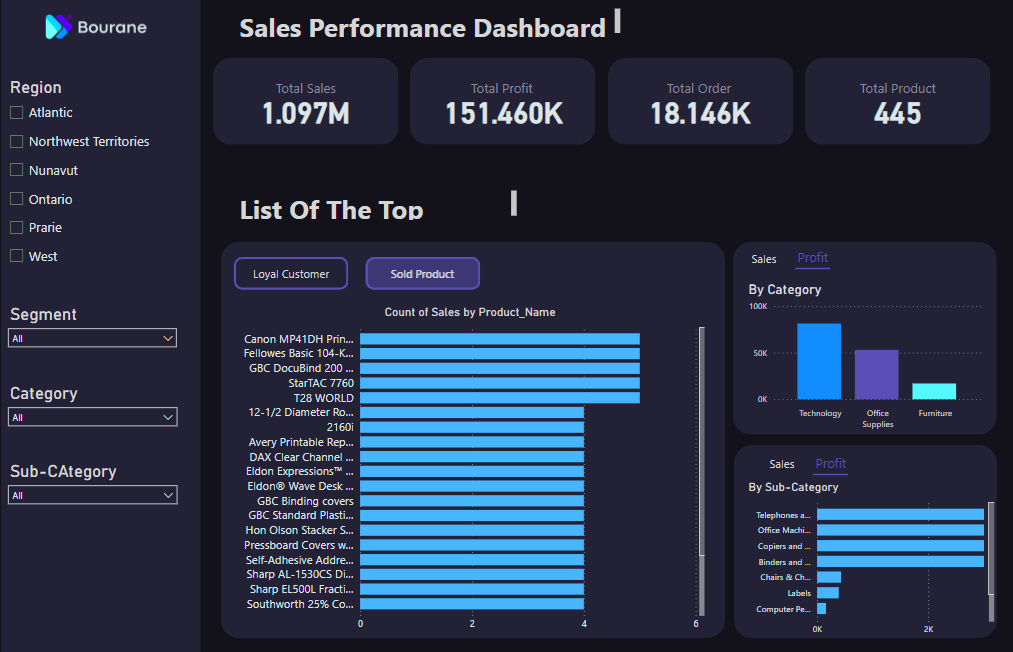

What the dashboard file says about the page in this screenshot:
{"tool":"powerbi","page":{"name":"Page 1","canvas":[1440,1694],"ordinal":0},"visuals":[{"type":"actionButton","box":[10,10,74,31.7],"z":0,"group":"g6"},{"type":"group","id":"g1","title":"overview","box":[303.2,127,1111.1,123.8],"z":0},{"type":"shape","box":[1149.2,127,265.1,123.8],"z":0,"group":"g1"},{"type":"group","id":"g2","title":"Sales_Btn","box":[1053.3,392.2,74,38.1],"z":0,"group":"g15"},{"type":"actionButton","box":[1053.3,392.2,74,31.7],"z":0,"group":"g2"},{"type":"actionButton","box":[1122.9,396.4,74,31.7],"z":0,"group":"g7"},{"type":"actionButton","title":"loyalty_btn","box":[521.3,411,163.3,46.7],"z":0,"group":"g11"},{"type":"actionButton","title":"loyalty_btn","box":[333.3,411.7,163.3,46.7],"z":0,"group":"g12"},{"type":"donutChart","title":"By Category","fields":{"Category":["Salesstore.Product_Category"],"Y":["Measures_Br.Total_Sales"]},"box":[1062.5,446.2,343.8,218.8],"z":0,"group":"g16"},{"type":"tableEx","title":"Top_10_Customer","fields":{"Values":["loyalty_list.Order_ID","loyalty_list.Customer_Name","loyalty_list.Customer_Segment","loyalty_list.Frequency"]},"box":[333.9,458,682.1,498],"z":0,"group":"g13"},{"type":"actionButton","box":[1149.2,687.4,74,31.7],"z":0,"group":"g8"},{"type":"group","id":"g3","title":"Sales_Btn","box":[1079.1,690.4,74,31.7],"z":0,"group":"g20"},{"type":"actionButton","box":[1079.1,690.4,74,31.7],"z":0,"group":"g3"},{"type":"actionButton","box":[1133.4,1096.9,74,31.7],"z":0,"group":"g9"},{"type":"group","id":"g4","title":"Sales_Btn","box":[1062.4,1099.9,74,31.7],"z":0,"group":"g17"},{"type":"actionButton","box":[1062.4,1099.9,74,31.7],"z":0,"group":"g4"},{"type":"actionButton","box":[1152.2,1385.4,74,31.7],"z":0,"group":"g10"},{"type":"group","id":"g5","title":"Sales_Btn","box":[1081.7,1388.1,74,31.7],"z":0,"group":"g23"},{"type":"actionButton","box":[1081.7,1388.1,74,31.7],"z":0,"group":"g5"},{"type":"group","id":"g6","title":"Sales_Btn","box":[10,10,74,38.1],"z":1000},{"type":"shape","box":[21.7,41,50,7.1],"z":1000,"group":"g6"},{"type":"shape","box":[867.2,127,265.1,123.8],"z":1000,"group":"g1"},{"type":"group","id":"g7","title":"Profit_Btn","box":[1122.9,396.4,74,31.7],"z":1000,"group":"g14"},{"type":"actionButton","title":"Product","box":[333,411,163.3,46.7],"z":1000,"group":"g11"},{"type":"shape","box":[1065,423.2,50,7.1],"z":1000,"group":"g2"},{"type":"group","id":"g8","title":"Profit_Btn","box":[1149.2,687.4,73.3,38.9],"z":1000,"group":"g21"},{"type":"shape","box":[1160.9,718.4,50,7.1],"z":1000,"group":"g8"},{"type":"clusteredBarChart","title":"By Sub-Category","fields":{"Category":["Salesstore.Product_Sub-Category"],"Y":["Measures_Br.Total_Profit"]},"box":[1062.5,730,361.4,231.4],"z":1000,"group":"g22"},{"type":"group","id":"g9","title":"Profit_Btn","box":[1133.4,1096.9,73.3,38.9],"z":1000,"group":"g18"},{"type":"shape","box":[1145.1,1127.9,50,7.1],"z":1000,"group":"g9"},{"type":"clusteredColumnChart","title":"Profit By Segment","fields":{"Category":["Salesstore.Customer_Segment"],"Y":["Measures_Br.Total_Profit"]},"box":[1065.8,1150.5,344.3,220],"z":1000,"group":"g19"},{"type":"group","id":"g10","title":"Profit_Btn","box":[1152.2,1385.4,73.3,38.9],"z":1000,"group":"g24"},{"type":"shape","box":[1163.9,1416.4,50,7.1],"z":1000,"group":"g10"},{"type":"donutChart","title":"Profit","fields":{"Y":["Measures_Br.Total_Profit"],"Category":["Salesstore.Ship_Mode"]},"box":[1065.2,1443.1,344.3,217.1],"z":1000,"group":"g25"},{"type":"shape","box":[585.2,127,265.1,123.8],"z":2000,"group":"g1"},{"type":"shape","box":[0,0,285,1695],"z":3000},{"type":"shape","box":[303.2,127,265.1,123.8],"z":3000,"group":"g1"},{"type":"textbox","box":[338,48,546,86],"z":4000},{"type":"textbox","box":[374.6,150.8,122.2,36.5],"z":5000},{"type":"card","fields":{"Values":["Measures_Br.Total_Sales"]},"box":[318.3,175,231.7,55],"z":6000},{"type":"textbox","box":[652.4,150.8,125.4,36.5],"z":7000},{"type":"card","fields":{"Values":["Measures_Br.Total_Profit"]},"box":[601.7,175,231.7,55],"z":8000},{"type":"image","box":[0,0,282.5,165.1],"z":9000},{"type":"textbox","box":[933.3,150.8,128.6,36.5],"z":10000},{"type":"card","fields":{"Values":["Measures_Br.Total_Order"]},"box":[883.3,175,230,55],"z":11000},{"type":"textbox","box":[1217.5,150.8,128.6,36.5],"z":12000},{"type":"card","fields":{"Values":["Measures_Br.Total_Product"]},"box":[1170,175,223.3,55],"z":13000},{"type":"shape","box":[314,390,720,566],"z":14000},{"type":"slicer","fields":{"Values":["Salesstore.Region"]},"box":[0,150,283.3,288.3],"z":15000},{"type":"group","id":"g11","title":"Top_10_Inactive_Btn","box":[333,411,351.7,46.7],"z":16000},{"type":"group","id":"g12","title":"Top_10_Activ_Btn","box":[333.3,411.7,350,46.7],"z":17000},{"type":"group","id":"g13","title":"charts","box":[330,458,686,498],"z":18000},{"type":"slicer","title":"Sigment_Slicer","fields":{"Values":["Salesstore.Customer_Segment"]},"box":[0,474.7,261.4,75.7],"z":19000},{"type":"slicer","title":"Catigory_Slicer","fields":{"Values":["Salesstore.Product_Category"]},"box":[0,586.7,261.7,75],"z":20000},{"type":"shape","box":[315,1095.4,720,564.3],"z":21000},{"type":"scatterChart","title":"Sales Vs Profit","fields":{"X":["Salesstore.Sales"],"Y":["Sum(Salesstore.Profit)"]},"box":[337.5,1115,695,530],"z":22000},{"type":"slicer","title":"Catigory_Slicer","fields":{"Values":["Salesstore.Product_Sub-Category"]},"box":[0,698,262,74],"z":23000},{"type":"shape","box":[1045,390,376.7,275],"z":24000},{"type":"group","id":"g14","title":"Sales_Profit_Inactive_Btn","box":[1052.8,396.4,144.1,31.7],"z":25000},{"type":"group","id":"g15","title":"Sales_Profit_Active_Btn","box":[1053.3,392.2,143.3,38.9],"z":26000},{"type":"group","id":"g16","title":"Sales_Profit_Category","box":[1062.2,446.2,344,220],"z":27000},{"type":"shape","box":[1046.4,1095.9,376,276],"z":28000},{"type":"group","id":"g17","title":"Sales_Profit_Inactive_Btn","box":[1062.4,1099.9,144.3,31.4],"z":29000},{"type":"group","id":"g18","title":"Sales_Profit_Active_Btn","box":[1063.3,1096.9,144.3,38.6],"z":30000},{"type":"group","id":"g19","title":"Sales_Segment","box":[1064.4,1150.5,345.7,221.4],"z":31000},{"type":"textbox","box":[336.7,311.7,405,63.3],"z":32000},{"type":"textbox","box":[330.7,1032.5,405.7,52.9],"z":33000},{"type":"shape","box":[1047.1,680,375.7,275.7],"z":34000},{"type":"group","id":"g20","title":"Sales_Profit_Inactive_Btn","box":[1079.1,690.4,144,32],"z":35000},{"type":"group","id":"g21","title":"Sales_Profit_Active_Btn","box":[1079.1,687.4,146,38],"z":36000},{"type":"group","id":"g22","title":"Group 1","box":[1061.1,730,362.9,233.4],"z":37000},{"type":"shape","box":[1046.4,1384.4,375.7,275.7],"z":39000},{"type":"group","id":"g23","title":"Sales_Profit_Inactive_Btn","box":[1081.7,1388.1,144.3,31.4],"z":40000},{"type":"group","id":"g24","title":"Sales_Profit_Active_Btn","box":[1082.1,1385.4,147.1,38.6],"z":41000},{"type":"group","id":"g25","title":"Group 2","box":[1063.6,1442.9,345.9,217.3],"z":42000}]}

Visuals, with their boxes on the page's 1440x1694 design canvas (x1, y1, x2, y2). These are canvas units, not pixel positions in the 1013x652 screenshot, which may show the page scaled, cropped or inside an application window:
actionButton: {"x1": 10, "y1": 10, "x2": 84, "y2": 42}
"overview" group: {"x1": 303, "y1": 127, "x2": 1414, "y2": 251}
shape: {"x1": 1149, "y1": 127, "x2": 1414, "y2": 251}
"Sales_Btn" group: {"x1": 1053, "y1": 392, "x2": 1127, "y2": 430}
actionButton: {"x1": 1053, "y1": 392, "x2": 1127, "y2": 424}
actionButton: {"x1": 1123, "y1": 396, "x2": 1197, "y2": 428}
"loyalty_btn" actionButton: {"x1": 521, "y1": 411, "x2": 685, "y2": 458}
"loyalty_btn" actionButton: {"x1": 333, "y1": 412, "x2": 497, "y2": 458}
"By Category" donutChart: {"x1": 1062, "y1": 446, "x2": 1406, "y2": 665}
"Top_10_Customer" tableEx: {"x1": 334, "y1": 458, "x2": 1016, "y2": 956}
actionButton: {"x1": 1149, "y1": 687, "x2": 1223, "y2": 719}
"Sales_Btn" group: {"x1": 1079, "y1": 690, "x2": 1153, "y2": 722}
actionButton: {"x1": 1079, "y1": 690, "x2": 1153, "y2": 722}
actionButton: {"x1": 1133, "y1": 1097, "x2": 1207, "y2": 1129}
"Sales_Btn" group: {"x1": 1062, "y1": 1100, "x2": 1136, "y2": 1132}
actionButton: {"x1": 1062, "y1": 1100, "x2": 1136, "y2": 1132}
actionButton: {"x1": 1152, "y1": 1385, "x2": 1226, "y2": 1417}
"Sales_Btn" group: {"x1": 1082, "y1": 1388, "x2": 1156, "y2": 1420}
actionButton: {"x1": 1082, "y1": 1388, "x2": 1156, "y2": 1420}
"Sales_Btn" group: {"x1": 10, "y1": 10, "x2": 84, "y2": 48}
shape: {"x1": 22, "y1": 41, "x2": 72, "y2": 48}
shape: {"x1": 867, "y1": 127, "x2": 1132, "y2": 251}
"Profit_Btn" group: {"x1": 1123, "y1": 396, "x2": 1197, "y2": 428}
"Product" actionButton: {"x1": 333, "y1": 411, "x2": 496, "y2": 458}
shape: {"x1": 1065, "y1": 423, "x2": 1115, "y2": 430}
"Profit_Btn" group: {"x1": 1149, "y1": 687, "x2": 1222, "y2": 726}
shape: {"x1": 1161, "y1": 718, "x2": 1211, "y2": 726}
"By Sub-Category" clusteredBarChart: {"x1": 1062, "y1": 730, "x2": 1424, "y2": 961}
"Profit_Btn" group: {"x1": 1133, "y1": 1097, "x2": 1207, "y2": 1136}
shape: {"x1": 1145, "y1": 1128, "x2": 1195, "y2": 1135}
"Profit By Segment" clusteredColumnChart: {"x1": 1066, "y1": 1150, "x2": 1410, "y2": 1370}
"Profit_Btn" group: {"x1": 1152, "y1": 1385, "x2": 1226, "y2": 1424}
shape: {"x1": 1164, "y1": 1416, "x2": 1214, "y2": 1424}
"Profit" donutChart: {"x1": 1065, "y1": 1443, "x2": 1410, "y2": 1660}
shape: {"x1": 585, "y1": 127, "x2": 850, "y2": 251}
shape: {"x1": 0, "y1": 0, "x2": 285, "y2": 1695}
shape: {"x1": 303, "y1": 127, "x2": 568, "y2": 251}
textbox: {"x1": 338, "y1": 48, "x2": 884, "y2": 134}
textbox: {"x1": 375, "y1": 151, "x2": 497, "y2": 187}
card - Measures_Br.Total_Sales: {"x1": 318, "y1": 175, "x2": 550, "y2": 230}
textbox: {"x1": 652, "y1": 151, "x2": 778, "y2": 187}
card - Measures_Br.Total_Profit: {"x1": 602, "y1": 175, "x2": 833, "y2": 230}
image: {"x1": 0, "y1": 0, "x2": 282, "y2": 165}
textbox: {"x1": 933, "y1": 151, "x2": 1062, "y2": 187}
card - Measures_Br.Total_Order: {"x1": 883, "y1": 175, "x2": 1113, "y2": 230}
textbox: {"x1": 1218, "y1": 151, "x2": 1346, "y2": 187}
card - Measures_Br.Total_Product: {"x1": 1170, "y1": 175, "x2": 1393, "y2": 230}
shape: {"x1": 314, "y1": 390, "x2": 1034, "y2": 956}
slicer - Salesstore.Region: {"x1": 0, "y1": 150, "x2": 283, "y2": 438}
"Top_10_Inactive_Btn" group: {"x1": 333, "y1": 411, "x2": 685, "y2": 458}
"Top_10_Activ_Btn" group: {"x1": 333, "y1": 412, "x2": 683, "y2": 458}
"charts" group: {"x1": 330, "y1": 458, "x2": 1016, "y2": 956}
"Sigment_Slicer" slicer: {"x1": 0, "y1": 475, "x2": 261, "y2": 550}
"Catigory_Slicer" slicer: {"x1": 0, "y1": 587, "x2": 262, "y2": 662}
shape: {"x1": 315, "y1": 1095, "x2": 1035, "y2": 1660}
"Sales Vs Profit" scatterChart: {"x1": 338, "y1": 1115, "x2": 1032, "y2": 1645}
"Catigory_Slicer" slicer: {"x1": 0, "y1": 698, "x2": 262, "y2": 772}
shape: {"x1": 1045, "y1": 390, "x2": 1422, "y2": 665}
"Sales_Profit_Inactive_Btn" group: {"x1": 1053, "y1": 396, "x2": 1197, "y2": 428}
"Sales_Profit_Active_Btn" group: {"x1": 1053, "y1": 392, "x2": 1197, "y2": 431}
"Sales_Profit_Category" group: {"x1": 1062, "y1": 446, "x2": 1406, "y2": 666}
shape: {"x1": 1046, "y1": 1096, "x2": 1422, "y2": 1372}
"Sales_Profit_Inactive_Btn" group: {"x1": 1062, "y1": 1100, "x2": 1207, "y2": 1131}
"Sales_Profit_Active_Btn" group: {"x1": 1063, "y1": 1097, "x2": 1208, "y2": 1136}
"Sales_Segment" group: {"x1": 1064, "y1": 1150, "x2": 1410, "y2": 1372}
textbox: {"x1": 337, "y1": 312, "x2": 742, "y2": 375}
textbox: {"x1": 331, "y1": 1032, "x2": 736, "y2": 1085}
shape: {"x1": 1047, "y1": 680, "x2": 1423, "y2": 956}
"Sales_Profit_Inactive_Btn" group: {"x1": 1079, "y1": 690, "x2": 1223, "y2": 722}
"Sales_Profit_Active_Btn" group: {"x1": 1079, "y1": 687, "x2": 1225, "y2": 725}
"Group 1" group: {"x1": 1061, "y1": 730, "x2": 1424, "y2": 963}
shape: {"x1": 1046, "y1": 1384, "x2": 1422, "y2": 1660}
"Sales_Profit_Inactive_Btn" group: {"x1": 1082, "y1": 1388, "x2": 1226, "y2": 1420}
"Sales_Profit_Active_Btn" group: {"x1": 1082, "y1": 1385, "x2": 1229, "y2": 1424}
"Group 2" group: {"x1": 1064, "y1": 1443, "x2": 1410, "y2": 1660}
